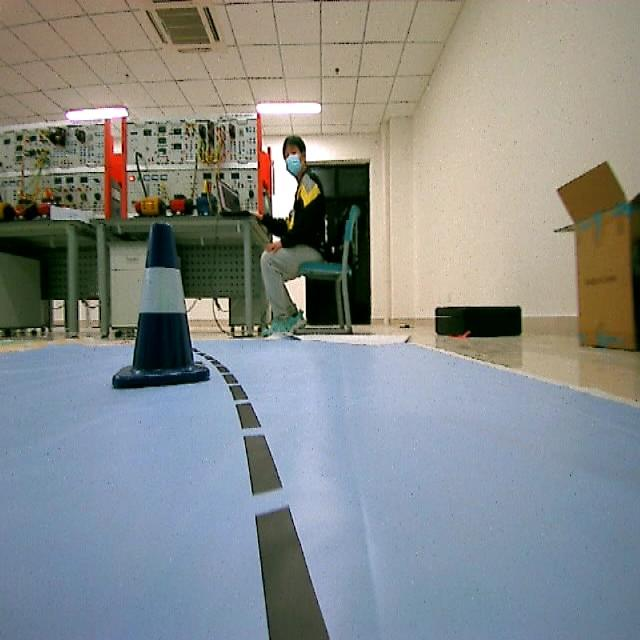obstacle: (114, 216, 208, 392)
